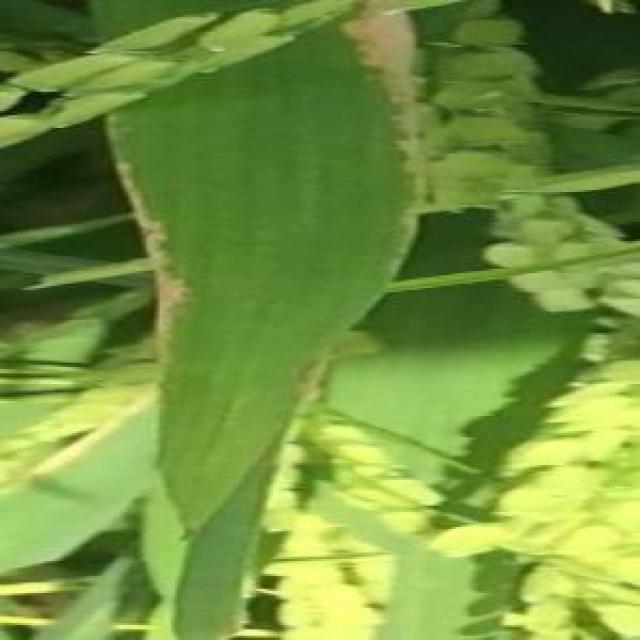Bacterial_Blight: (342, 0, 443, 247), (106, 111, 194, 344)
